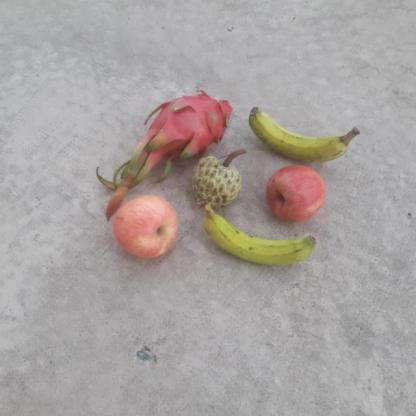annona: (186, 153, 244, 213)
apple: (102, 194, 186, 264), (266, 162, 329, 223)
banana: (203, 208, 320, 268), (244, 105, 356, 161)
pitaya: (136, 84, 235, 158)
